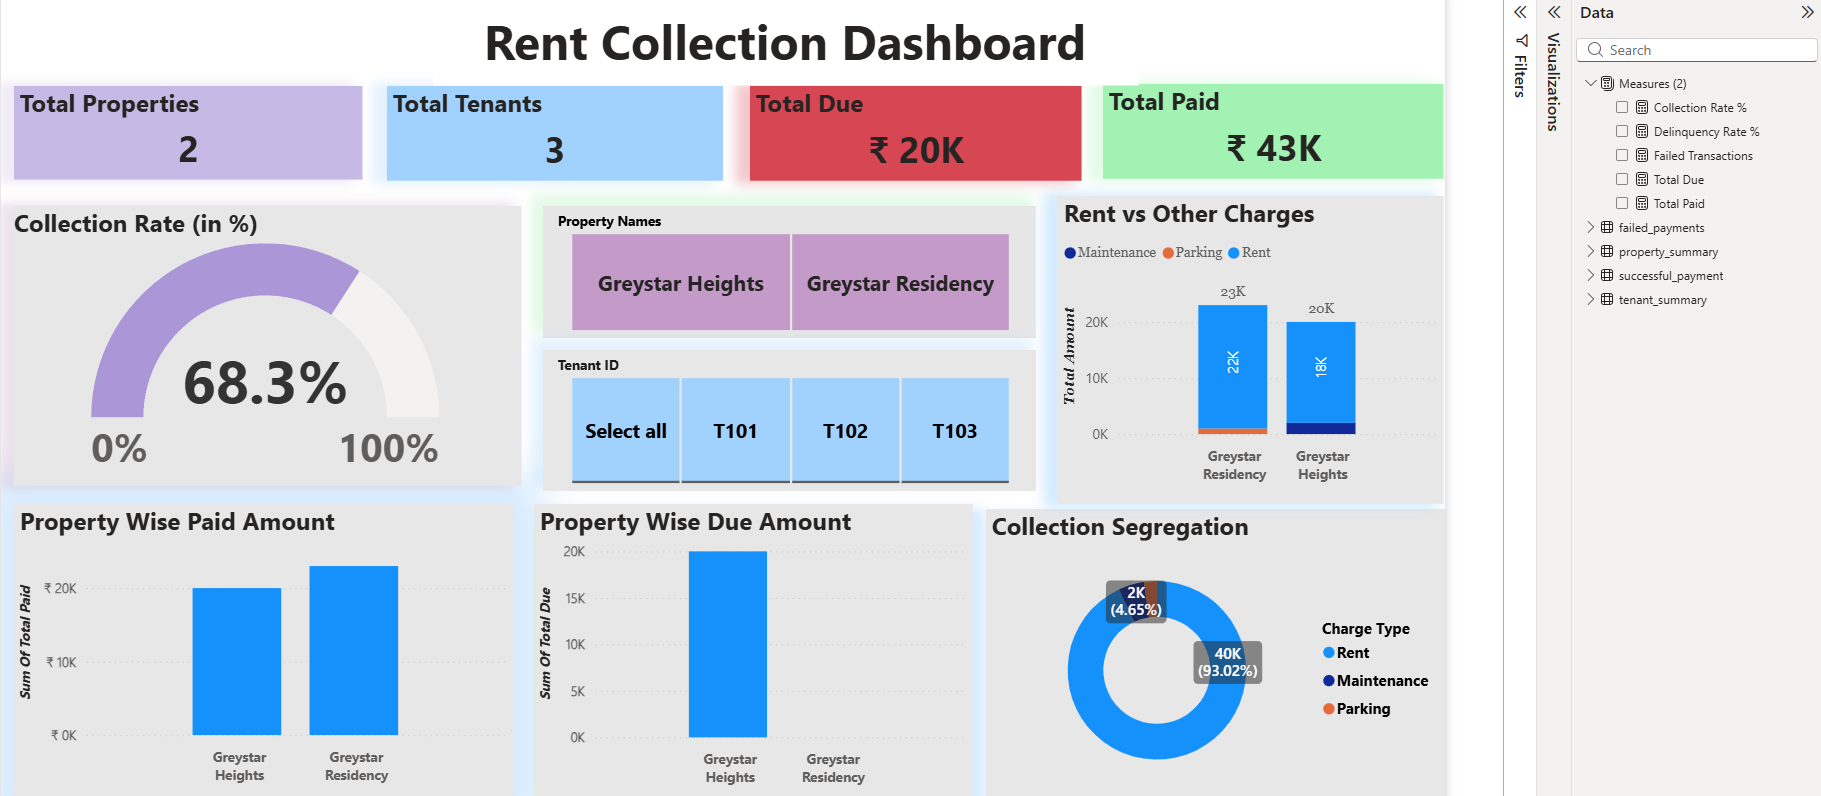

This screenshot's page, from the dashboard's own definition file:
{"tool":"powerbi","page":{"name":"Overview_dashboard","canvas":[1280,720],"ordinal":0},"visuals":[{"type":"card","title":"Total Paid","fields":{"Values":["Sum(property_summary.totalPaid)"]},"box":[977.1,80.7,302.4,84.2],"z":0},{"type":"card","title":"Total Due","fields":{"Values":["Sum(failed_payments.amount)"]},"box":[664.1,82.5,294.4,84.2],"z":1000},{"type":"card","title":"Total Tenants","fields":{"Values":["Count(tenant_summary.tenantId)"]},"box":[342.3,82.5,297.9,84.2],"z":2000},{"type":"card","title":"Total Properties","fields":{"Values":["Count(property_summary.propertyName)"]},"box":[11.5,82.5,309.5,83.3],"z":3000},{"type":"clusteredColumnChart","title":"Property Wise Paid Amount","fields":{"Category":["property_summary.propertyName"],"Y":["Sum(property_summary.totalPaid)"]},"box":[11.5,453.1,443.3,266.9],"z":4000},{"type":"clusteredColumnChart","title":"Property Wise Due Amount","fields":{"Category":["property_summary.propertyName"],"Y":["Sum(property_summary.totalDue)"]},"box":[472.6,453.1,389.3,266.9],"z":5000},{"type":"donutChart","title":"Collection Segregation","fields":{"Category":["successful_payment.chargeType"],"Y":["Sum(successful_payment.amount)"]},"box":[873.4,457.5,407,258],"z":6000},{"type":"slicer","fields":{"Values":["property_summary.propertyName"]},"box":[480.6,188.9,437.1,117],"z":7000},{"type":"slicer","fields":{"Values":["tenant_summary.tenantId"]},"box":[480.6,316.6,437.1,125],"z":8000},{"type":"gauge","title":"Collection Rate (in %)","fields":{"Y":["Measures (2).Collection Rate %"]},"box":[11.5,188.9,450.4,248.3],"z":9000},{"type":"columnChart","title":"Rent vs Other Charges","fields":{"Category":["successful_payment.propertyName"],"Series":["successful_payment.chargeType"],"Y":["Sum(successful_payment.amount)"]},"box":[937.2,180,342.3,273.1],"z":10000},{"type":"textbox","box":[383.1,8,626,73.6],"z":11000}]}

Visuals, with their boxes on the page's 1280x720 design canvas (x1, y1, x2, y2). These are canvas units, not pixel positions in the 1821x796 screenshot, which may show the page scaled, cropped or inside an application window:
"Total Paid" card: 977/81/1280/165
"Total Due" card: 664/82/958/167
"Total Tenants" card: 342/82/640/167
"Total Properties" card: 12/82/321/166
"Property Wise Paid Amount" clusteredColumnChart: 12/453/455/720
"Property Wise Due Amount" clusteredColumnChart: 473/453/862/720
"Collection Segregation" donutChart: 873/458/1280/716
slicer - property_summary.propertyName: 481/189/918/306
slicer - tenant_summary.tenantId: 481/317/918/442
"Collection Rate (in %)" gauge: 12/189/462/437
"Rent vs Other Charges" columnChart: 937/180/1280/453
textbox: 383/8/1009/82
